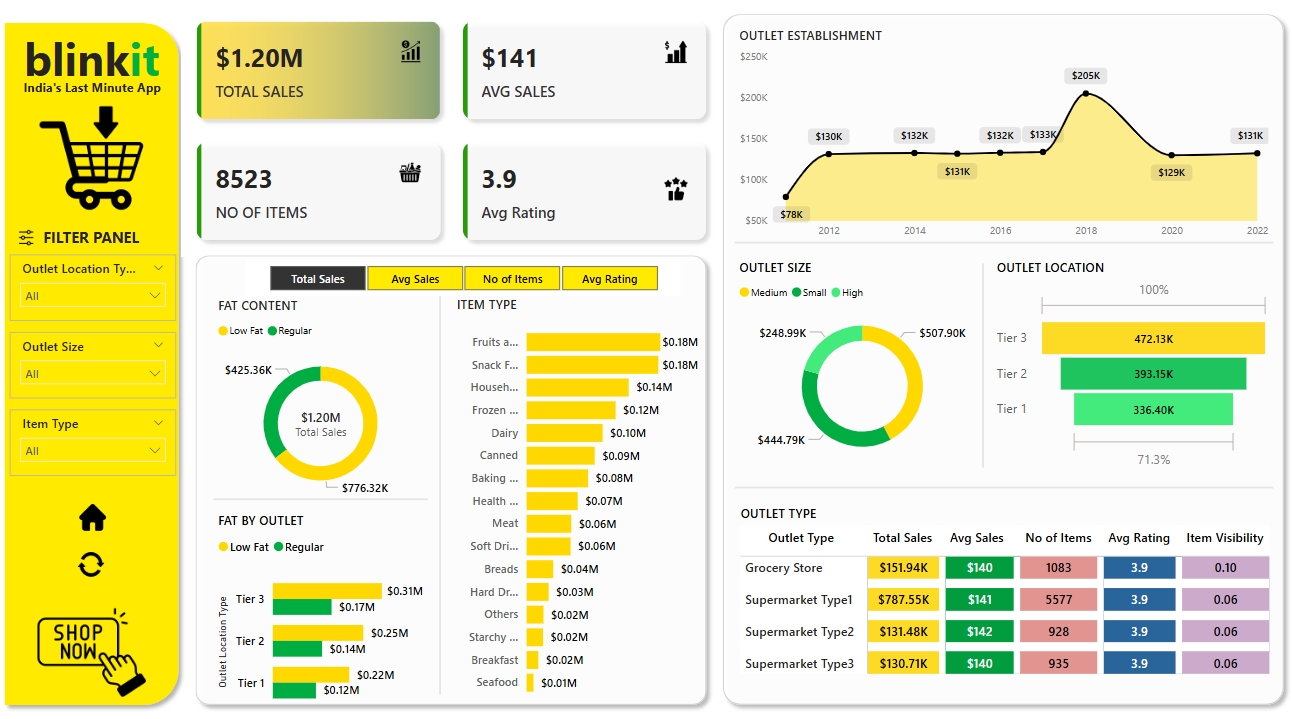

What the dashboard file says about the page in this screenshot:
{"tool":"powerbi","page":{"name":"Page 1","canvas":[1400,800],"ordinal":0},"visuals":[{"type":"shape","box":[0,24.1,205.1,749.3],"z":0},{"type":"textbox","box":[18.8,33.5,167.6,84.5],"z":1000},{"type":"textbox","box":[5.4,88.5,195.7,33.5],"z":2000},{"type":"cardVisual","fields":{"Data":["BlinkIT Grocery Data.Total Sales","BlinkIT Grocery Data.Avg Sales","BlinkIT Grocery Data.No of Items","BlinkIT Grocery Data.Avg Rating"]},"box":[198.4,14.7,581.8,269.4],"z":3000},{"type":"shape","box":[205.1,273.5,565.7,500],"z":4000},{"type":"donutChart","title":"FAT CONTENT","fields":{"Y":["BlinkIT Grocery Data.Total Sales"],"Category":["BlinkIT Grocery Data.Item Fat Content"]},"box":[233.8,327.5,230,226.2],"z":5000},{"type":"slicer","fields":{"Values":["Metrics.Metrics"]},"box":[268.3,287.2,465.5,39.5],"z":6000},{"type":"cardVisual","fields":{"Data":["BlinkIT Grocery Data.Total Sales"]},"box":[290,418.8,118.8,90],"z":7000},{"type":"clusteredBarChart","title":"FAT BY OUTLET","fields":{"Y":["BlinkIT Grocery Data.Total Sales"],"Category":["BlinkIT Grocery Data.Outlet Location Type"],"Series":["BlinkIT Grocery Data.Item Fat Content"]},"box":[233.8,557.5,230,225],"z":8000},{"type":"shape","box":[233.8,531.2,230,26.2],"z":9000},{"type":"shape","box":[465.5,325.1,22.1,427.6],"z":10000},{"type":"barChart","title":"ITEM TYPE","fields":{"Y":["BlinkIT Grocery Data.Total Sales"],"Category":["BlinkIT Grocery Data.Item Type"]},"box":[488.7,325.8,269.4,440],"z":11000},{"type":"shape","box":[770.8,14.7,619.3,758.7],"z":12000},{"type":"lineChart","title":"OUTLET ESTABLISHMENT","fields":{"Y":["BlinkIT Grocery Data.Total Sales"],"Category":["BlinkIT Grocery Data.Outlet Establishment Year"]},"box":[792.2,37.9,577.6,235.1],"z":13000},{"type":"shape","box":[792.2,256,577.8,25.5],"z":14000},{"type":"donutChart","title":"OUTLET SIZE","fields":{"Category":["BlinkIT Grocery Data.Outlet Size"],"Y":["BlinkIT Grocery Data.Total Sales"]},"box":[792.2,285.3,274.8,230],"z":15000},{"type":"shape","box":[1047.8,290.4,20.5,219.3],"z":16000},{"type":"funnel","title":"OUTLET LOCATION","fields":{"Y":["Sum(BlinkIT Grocery Data.Sales)"],"Category":["BlinkIT Grocery Data.Outlet Location Type"]},"box":[1068.3,285.6,303,230.4],"z":17000},{"type":"shape","box":[792.2,519.2,577.6,25.2],"z":18000},{"type":"pivotTable","title":"OUTLET TYPE","fields":{"Rows":["BlinkIT Grocery Data.Outlet Type"],"Values":["BlinkIT Grocery Data.Total Sales","BlinkIT Grocery Data.Avg Sales","BlinkIT Grocery Data.No of Items","BlinkIT Grocery Data.Avg Rating","Avg(BlinkIT Grocery Data.Item Visibility)"]},"box":[793.7,549.2,577.6,195.7],"z":19000},{"type":"slicer","fields":{"Values":["BlinkIT Grocery Data.Outlet Location Type"]},"box":[14.2,280.9,178.3,71],"z":20000},{"type":"slicer","fields":{"Values":["BlinkIT Grocery Data.Outlet Size"]},"box":[14.2,364.5,178.3,71],"z":21000},{"type":"slicer","fields":{"Values":["BlinkIT Grocery Data.Item Type"]},"box":[14.2,448.2,178.3,71],"z":22000},{"type":"textbox","box":[33.9,246.8,137.1,38.7],"z":23000},{"type":"image","box":[19.4,246.8,27.4,33.9],"z":24000},{"type":"image","box":[85.8,599.2,37.5,40.2],"z":25000},{"type":"image","box":[84.5,544.2,38.9,38.9],"z":25001},{"type":"image","box":[36.2,115.3,132.7,126],"z":25002},{"type":"image","box":[36.2,643.4,132.7,130],"z":25003}]}

Visuals, with their boxes in screenshot pixels (x1, y1, x2, y2), scaled from the page's 1400x800 canvas onto the 1292x719 screenshot:
shape: 0, 22, 189, 695
textbox: 17, 30, 172, 106
textbox: 5, 80, 186, 110
cardVisual - BlinkIT Grocery Data.Total Sales x BlinkIT Grocery Data.Avg Sales: 183, 13, 720, 255
shape: 189, 246, 711, 695
"FAT CONTENT" donutChart: 216, 294, 428, 498
slicer - Metrics.Metrics: 248, 258, 677, 294
cardVisual - BlinkIT Grocery Data.Total Sales: 268, 376, 377, 457
"FAT BY OUTLET" clusteredBarChart: 216, 501, 428, 703
shape: 216, 477, 428, 501
shape: 430, 292, 450, 676
"ITEM TYPE" barChart: 451, 293, 700, 688
shape: 711, 13, 1283, 695
"OUTLET ESTABLISHMENT" lineChart: 731, 34, 1264, 245
shape: 731, 230, 1264, 253
"OUTLET SIZE" donutChart: 731, 256, 985, 463
shape: 967, 261, 986, 458
"OUTLET LOCATION" funnel: 986, 257, 1266, 464
shape: 731, 467, 1264, 489
"OUTLET TYPE" pivotTable: 732, 494, 1266, 669
slicer - BlinkIT Grocery Data.Outlet Location Type: 13, 252, 178, 316
slicer - BlinkIT Grocery Data.Outlet Size: 13, 328, 178, 391
slicer - BlinkIT Grocery Data.Item Type: 13, 403, 178, 467
textbox: 31, 222, 158, 257
image: 18, 222, 43, 252
image: 79, 539, 114, 575
image: 78, 489, 114, 524
image: 33, 104, 156, 217
image: 33, 578, 156, 695
